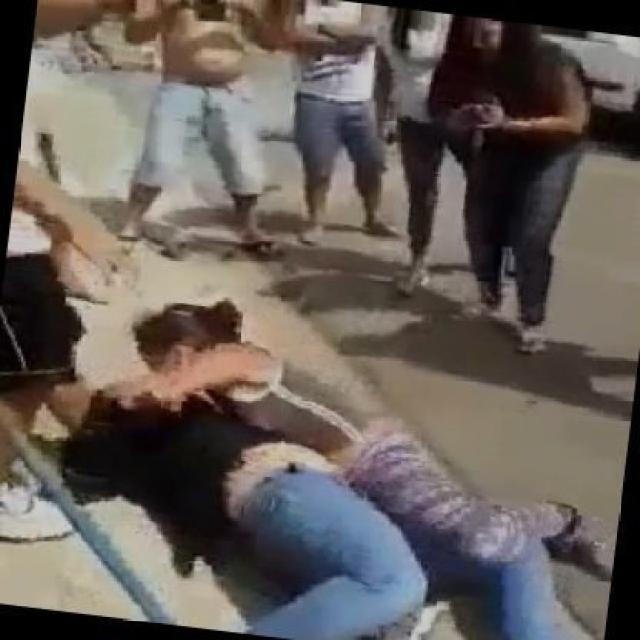fight: (3, 300, 635, 638)
non-fight: (395, 8, 611, 357), (91, 0, 317, 271)
